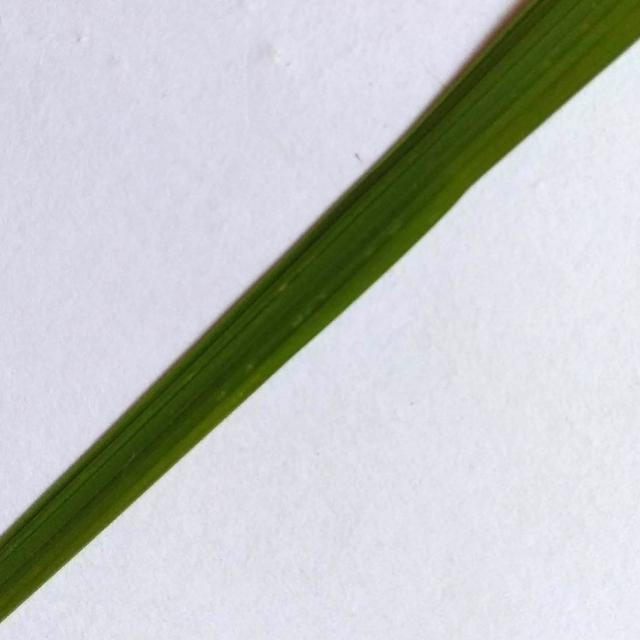Rice_Healthy: (0, 0, 640, 622)
